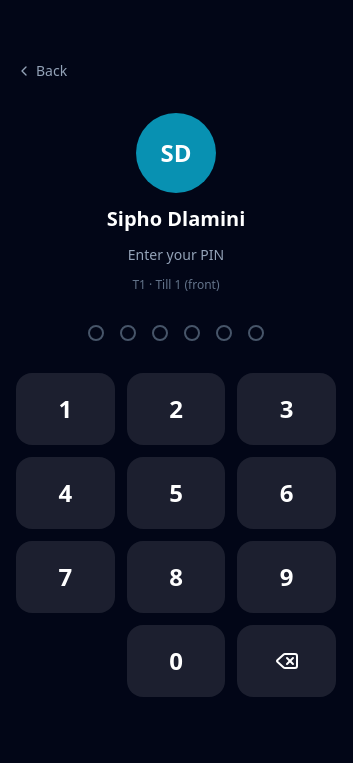
signing in on a till with a shift › SHIFT_OPEN_ON_OTHER_TILL names the other till
Earlier steps of the test are not shown.
Click the button "1" at (65, 409), box [16,373,115,445]
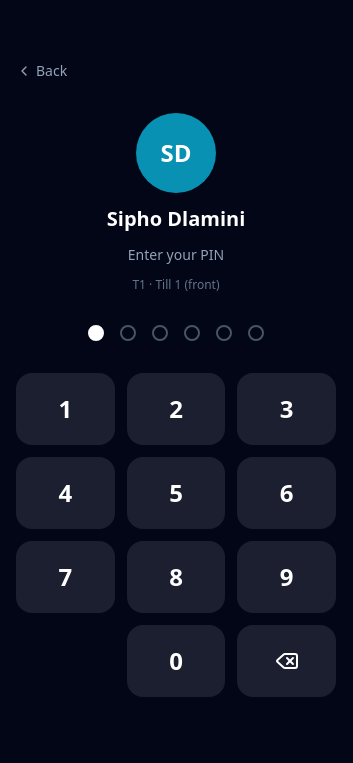
Click the button "2" at (176, 409), box [127,373,225,445]
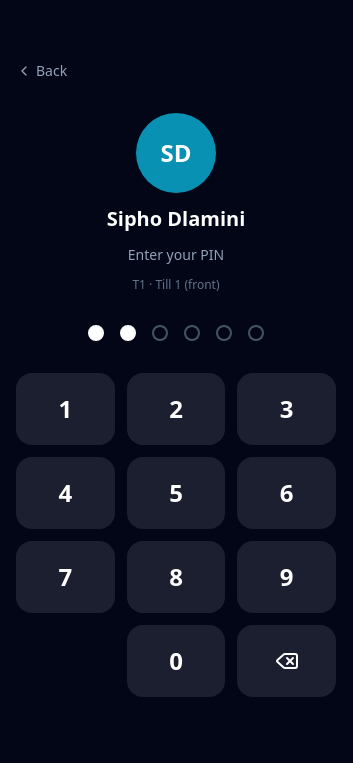
Click the button "3" at (287, 409), box [237,373,336,445]
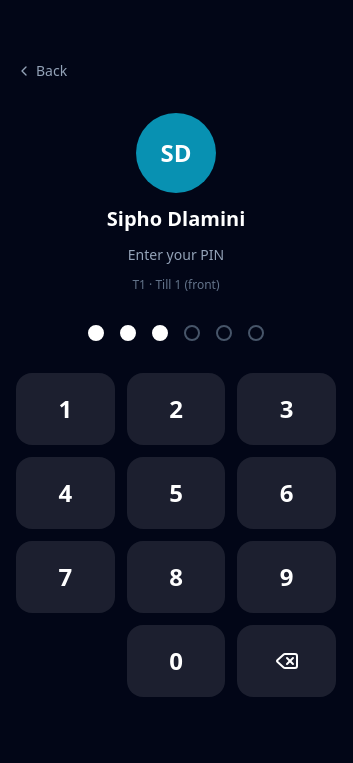
Click the button "4" at (65, 493), box [16,457,115,529]
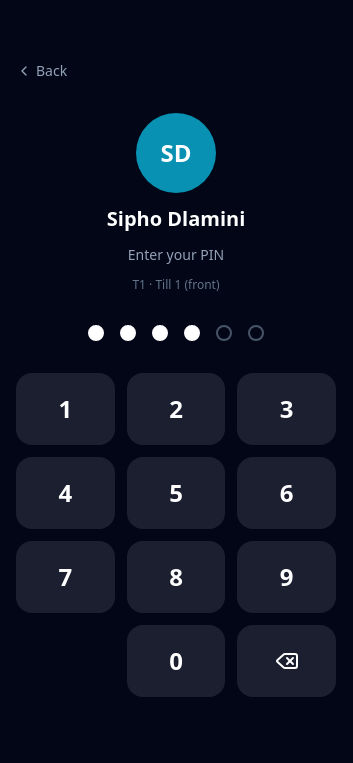
Click the button "5" at (176, 493), box [127,457,225,529]
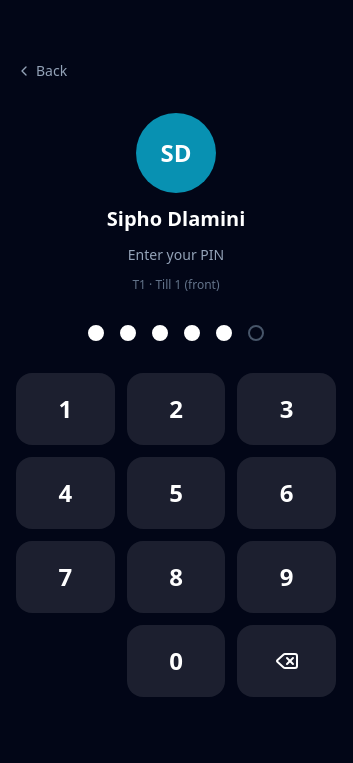
Click the button "6" at (287, 493), box [237,457,336,529]
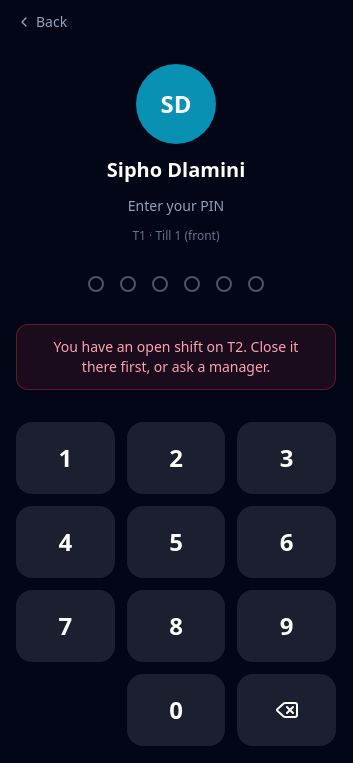
Result: the text "You have an open shift on T2. Close it there first, or ask a manager." is shown at [16,324,336,390]
